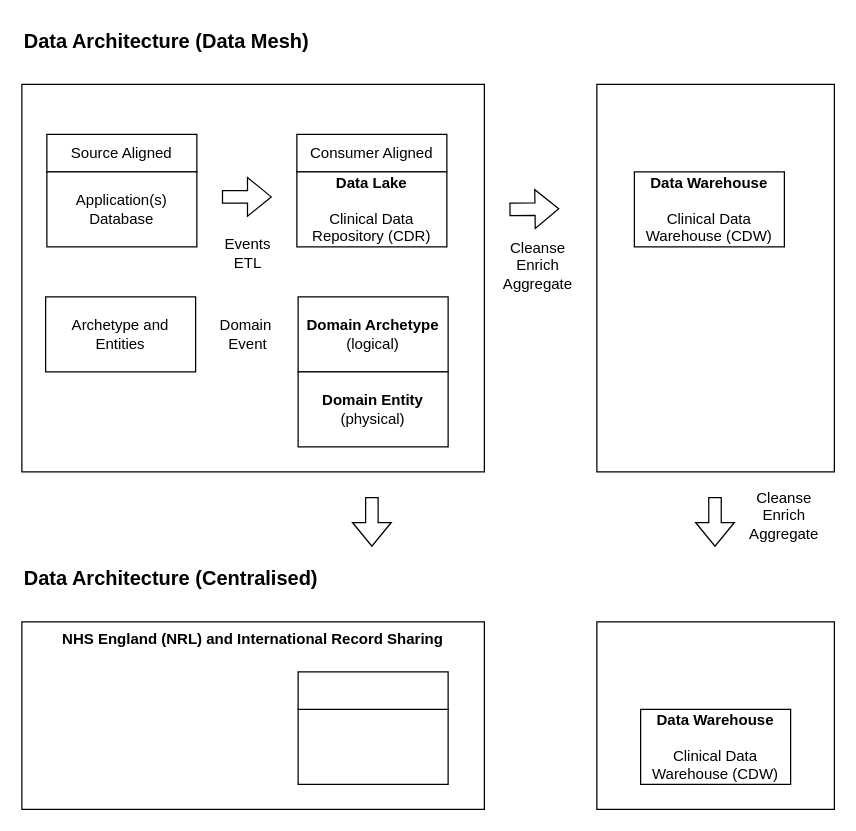
Some shapes in this 856 by 831 pixel diagram are drawn without their labels. Each missing label, with the box of its shape:
Aggregate Aligned: (297, 671, 448, 709)
Analytic Data: (596, 83, 834, 472)
Domain Composition: (297, 708, 448, 784)
NHS England (Federated Data Platform): (596, 621, 834, 809)
Operational Data: (21, 83, 484, 472)
